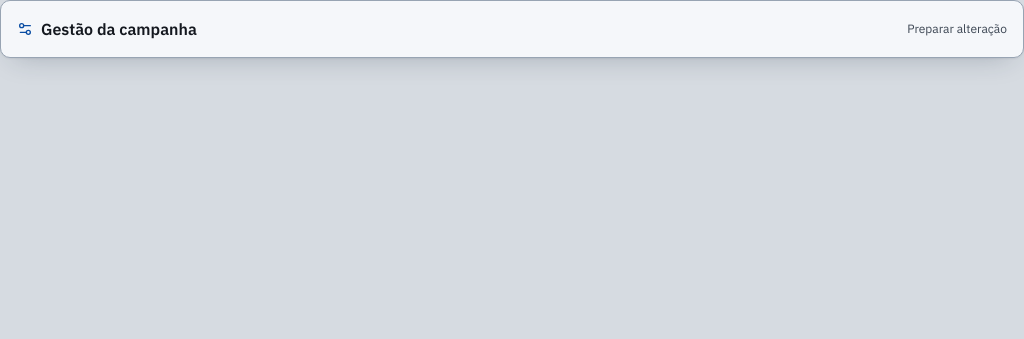
Test: leitura parcial bloqueia planejamento
Click the heading "Gestão da campanha Preparar alteração" at x=119, y=29, box [17,19,1007,39]
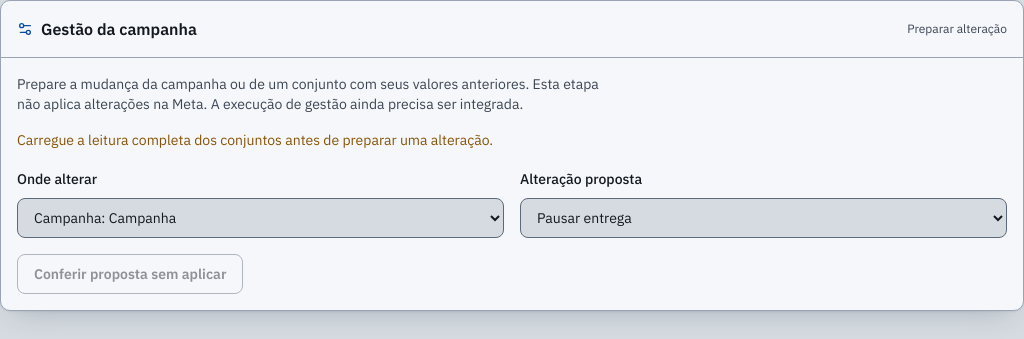
Expected: the button "Conferir proposta sem aplicar" is disabled, [17,254,243,294]
